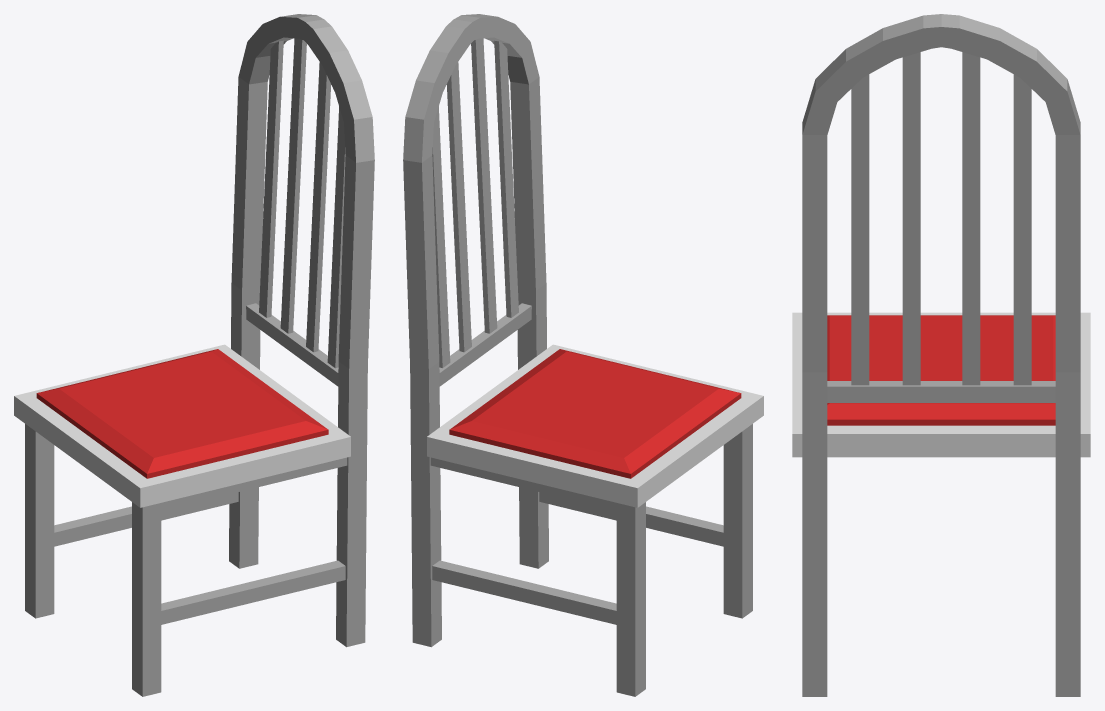
File: pizza-chair.fbx
3 renders of one model, left to right at view 1: azimuth 30°, elevation 25°; view 2: azimuth 150°, elevation 25°; view 3: azimuth 270°, elevation 25°, orthographic. The views are drawn at different scales.
Visible parts, largest first — view 1: Cube.002, Cube, Cube.006, Cube.007, Cube.003, Cube.004, Cube.005, Cube.001; view 2: Cube.002, Cube, Cube.006, Cube.007, Cube.003, Cube.004, Cube.005, Cube.001; view 3: Cube.002, Cube.006, Cube, Cube.007, Cube.005.
Part boxes in pixels (x1,y1,x2,y2): Cube.002: (229, 14, 374, 647); Cube: (36, 349, 328, 478); Cube.006: (259, 38, 345, 368); Cube.007: (14, 344, 350, 507); Cube.003: (25, 424, 161, 696); Cube.004: (54, 492, 345, 624); Cube.005: (246, 303, 338, 386); Cube.001: (161, 457, 347, 510); Cube.002: (403, 14, 548, 647); Cube: (449, 349, 741, 478); Cube.006: (432, 38, 518, 368); Cube.007: (427, 344, 763, 507); Cube.003: (616, 424, 752, 696); Cube.004: (432, 492, 723, 624); Cube.005: (439, 303, 531, 386); Cube.001: (430, 457, 616, 510); Cube.002: (802, 14, 1080, 696); Cube.006: (851, 52, 1031, 385); Cube: (827, 315, 1055, 425); Cube.007: (792, 312, 1090, 457); Cube.005: (827, 381, 1055, 402).
Size of the model in its own units: 210 by 469 by 186.
